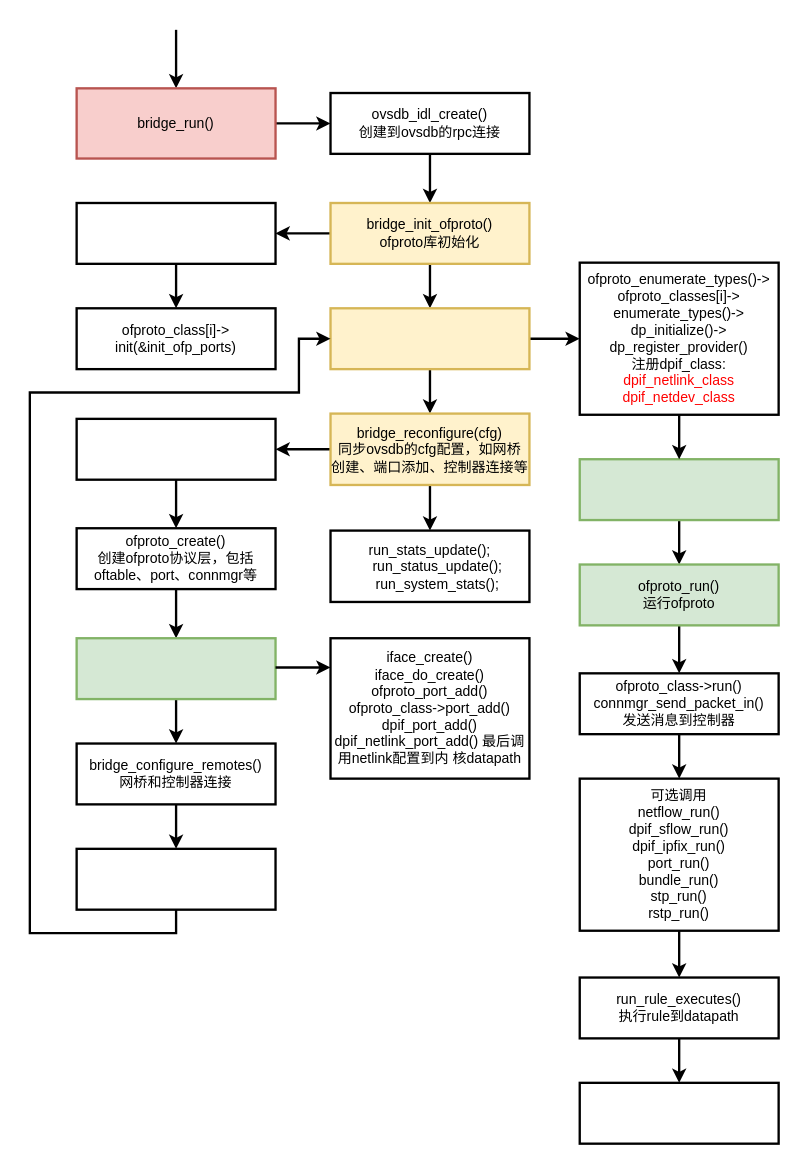
Some shapes in this 799 by 1164 pixel diagram are drawn without their labels. Each missing label, with the centre of its shape:
add_del_bridges() 添加或删除新的bridge 加入all_bridges全局hash表: the point at 175,448
bridge_add_ports() 配置端口: the point at 175,668
bridge_run__(): the point at 429,338
connmgr_run() OpenFlow连接处理: the point at 678,1112
ofproto_type_run()-> type_run() 运行datapath: the point at 678,489
ofproto接口类注册 ofproto_dpif: the point at 175,232
port_configure() bridge_configure_xxx() 其他业务配置: the point at 175,878
